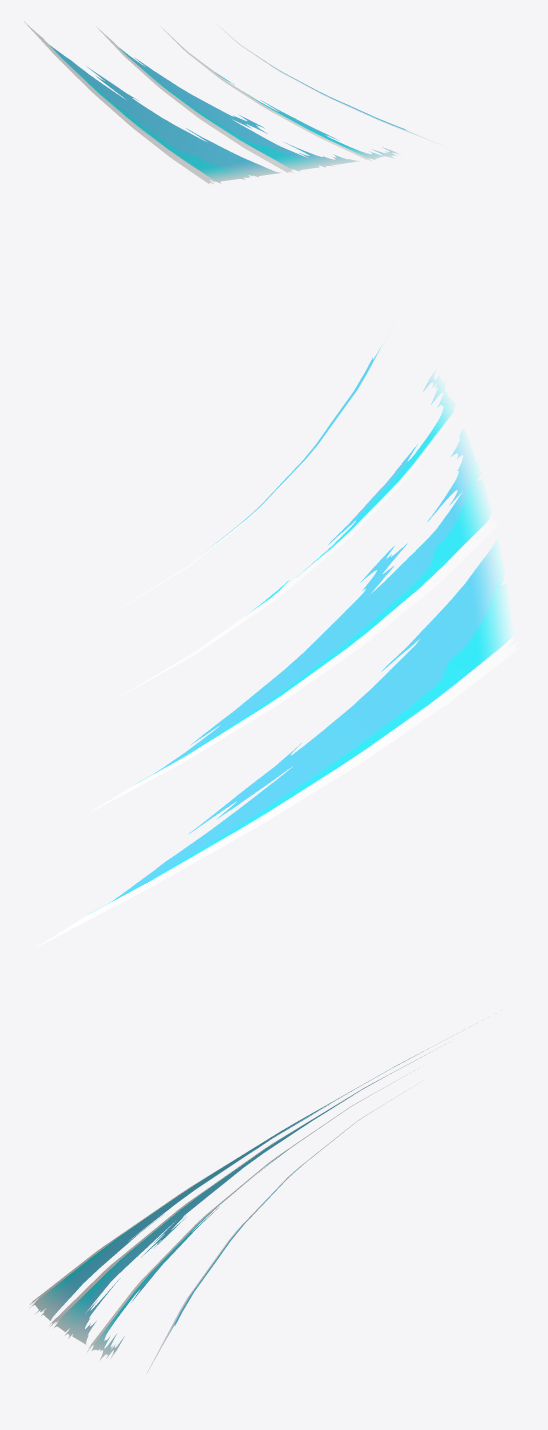
The model's file is daog_yasuo_04.FBX.
3 renders of one model, top to bottom at view 1: azimuth 30°, elevation 25°; view 2: azimuth 150°, elevation 25°; view 3: azimuth 330°, elevation 25°, orthographic. The views are drawn at different scales.
Parts seen in each view (by area): view 1: daog_yasuo_04; view 2: daog_yasuo_04; view 3: daog_yasuo_04.
Part boxes in pixels (box(x1,y1,x2,y2)): daog_yasuo_04: box(24, 21, 445, 184); daog_yasuo_04: box(34, 312, 518, 948); daog_yasuo_04: box(29, 1010, 501, 1374).
Size of the model in its own units: 141 by 51.49 by 387.
Materials: 1 (1 with a texture image).
